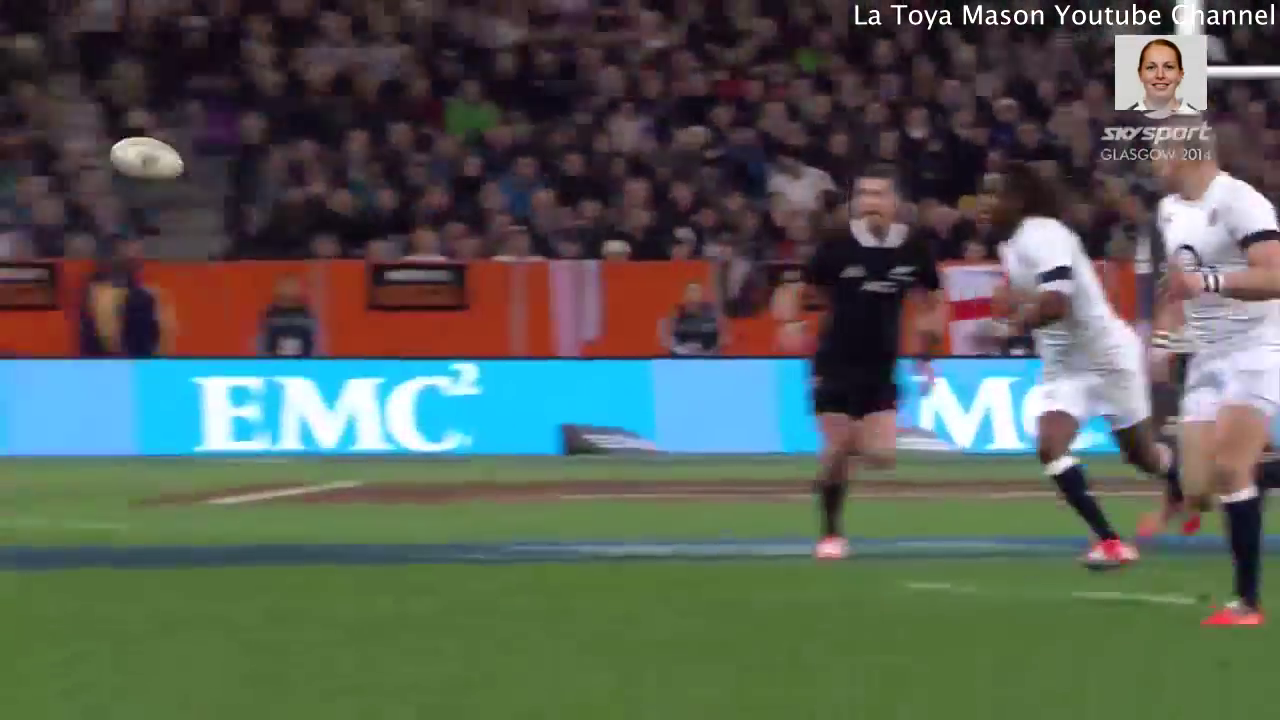ball: (93, 117, 206, 192)
player: (954, 173, 1164, 573), (1132, 124, 1280, 637), (782, 161, 950, 572)
